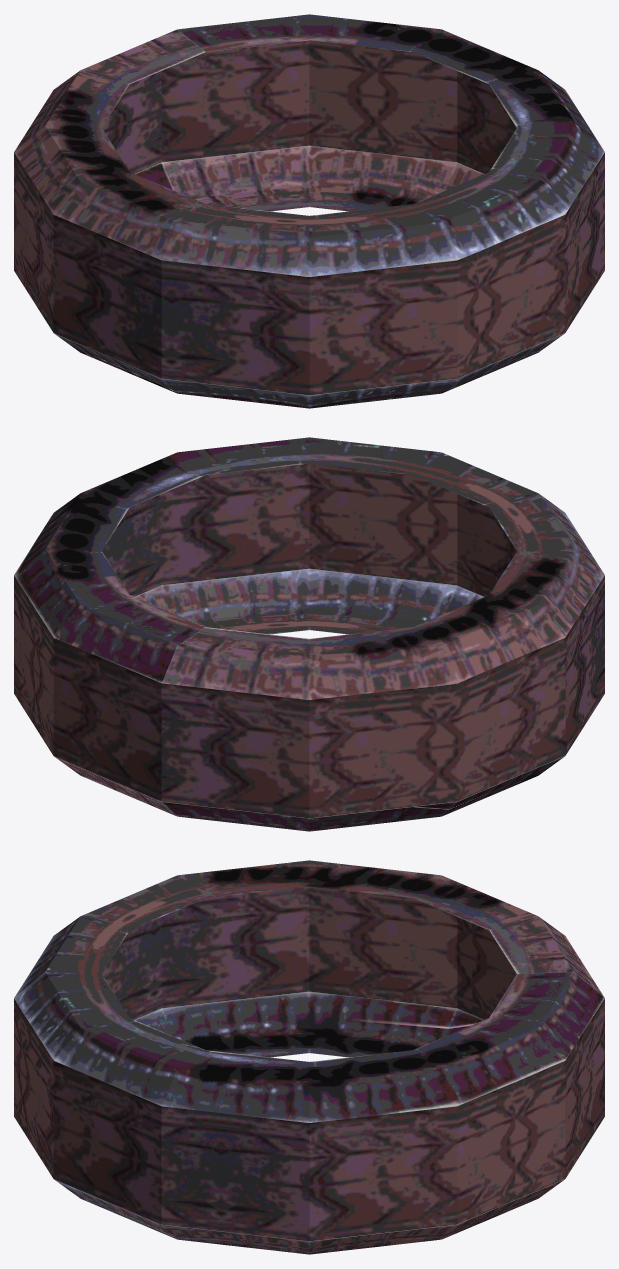
Rendered from Pneu.fbx.
The picture shows the model from 3 angles, top to bottom: view 1: azimuth 30°, elevation 25°; view 2: azimuth 150°, elevation 25°; view 3: azimuth 270°, elevation 25°; orthographic projection.
Visible parts, largest first — view 1: Cylinder.003; view 2: Cylinder.003; view 3: Cylinder.003.
Boxes of the visible parts, x1,y1,x2,y2 form: Cylinder.003: (14,14,604,408); Cylinder.003: (14,437,604,831); Cylinder.003: (14,860,604,1254).
Size of the model in its own units: 79.93 by 25.49 by 79.93.
Materials: 1 (1 with a texture image).
